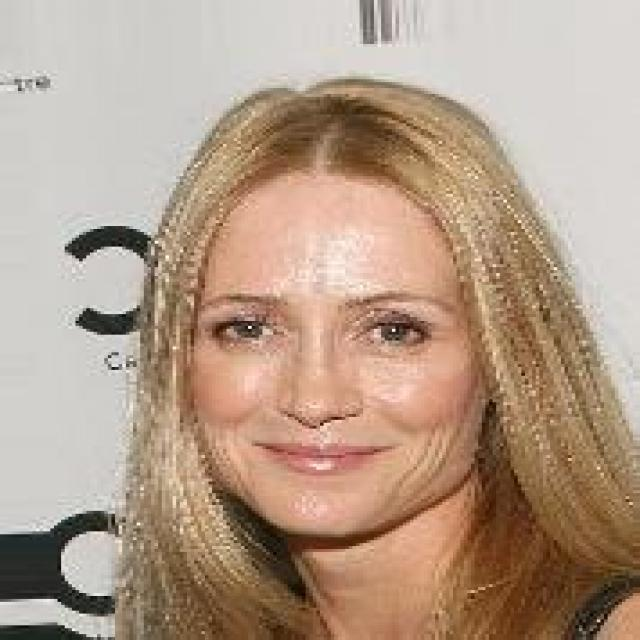nomask: (122, 71, 622, 543)
